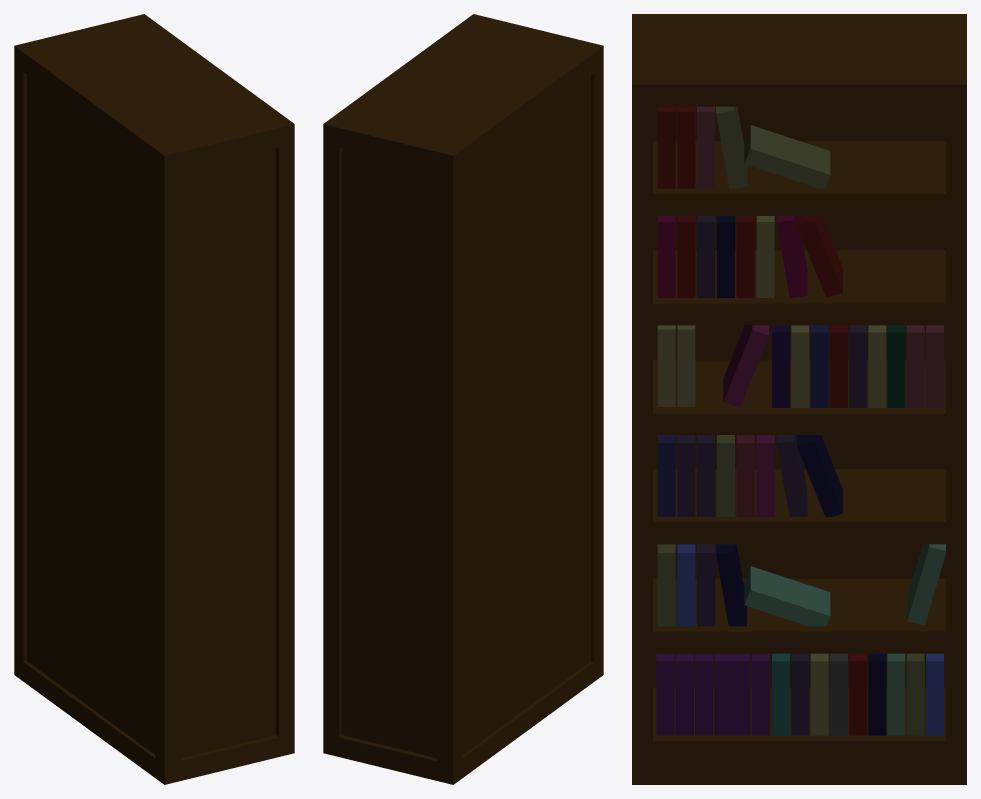
Rendered from bücherschrank (1)_books_blend.glb.
3 views of the same model, side by side, from view 1: azimuth 30°, elevation 25°; view 2: azimuth 150°, elevation 25°; view 3: azimuth 270°, elevation 25° (orthographic). The views are drawn at different scales.
Parts seen in each view (by area): view 1: Cube; view 2: Cube; view 3: Cube, Cube.016, Cube.041, Cube.036, Cube.026, Cube.015, Cube.042, Cube.004, Cube.040, Cube.035, Cube.014, Cube.018 (+43 smaller).
Part boxes in pixels (bbox=[...]): Cube: bbox=[14, 14, 294, 784]; Cube: bbox=[323, 14, 603, 784]; Cube: bbox=[632, 14, 966, 784]; Cube.016: bbox=[744, 125, 830, 188]; Cube.041: bbox=[744, 566, 830, 626]; Cube.036: bbox=[797, 435, 842, 516]; Cube.026: bbox=[723, 325, 769, 407]; Cube.015: bbox=[797, 216, 842, 297]; Cube.042: bbox=[907, 544, 945, 625]; Cube.004: bbox=[716, 106, 747, 188]; Cube.040: bbox=[716, 544, 746, 626]; Cube.035: bbox=[776, 435, 807, 516]; Cube.014: bbox=[776, 216, 807, 297]; Cube.018: bbox=[906, 325, 924, 407].
Size of the model in its own units: 1.3 by 6 by 2.6.
